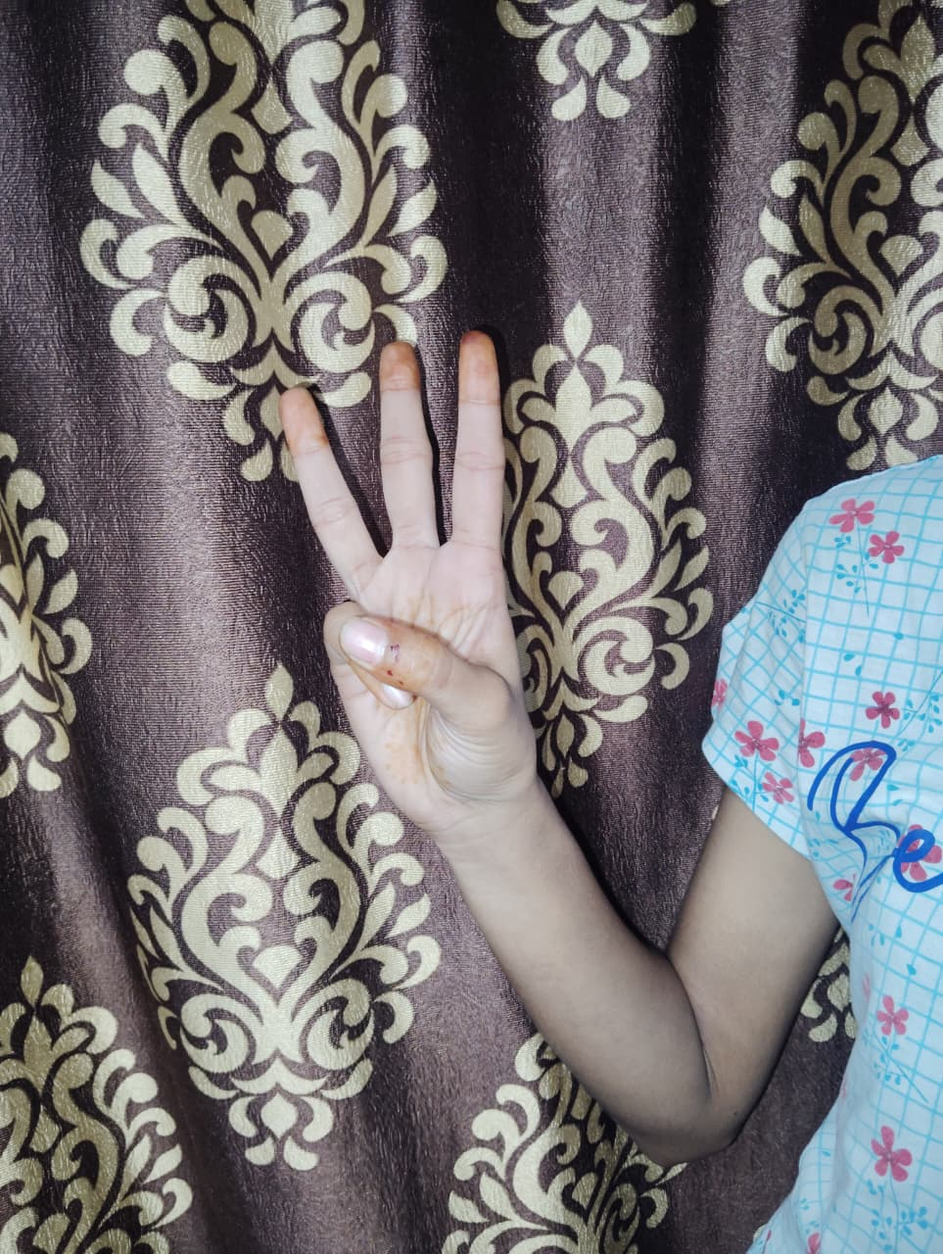W: (283, 331, 532, 780)
